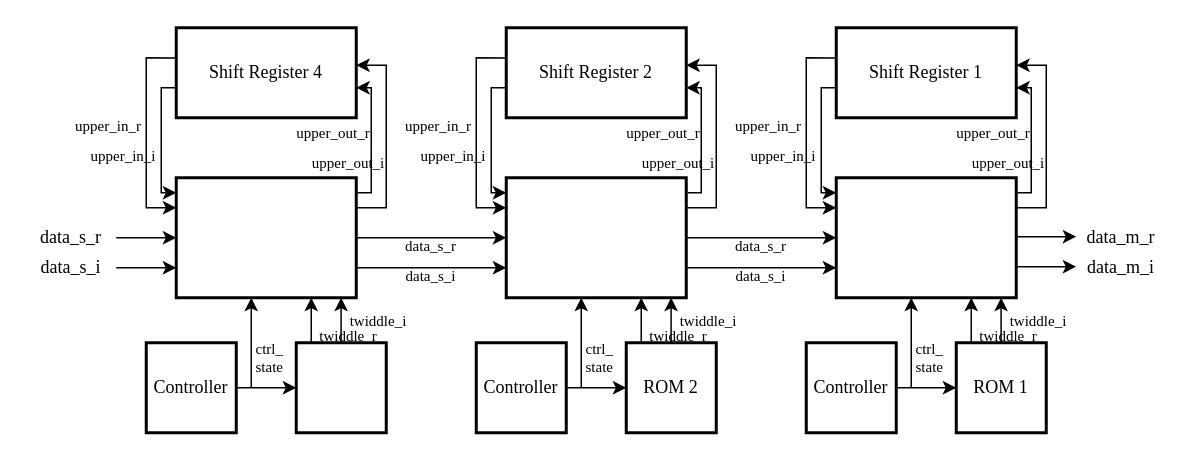
Image size: 1191x459. Some labels were removed from this diagram. Here are the shapes that lost their labels. From the top down, the centre of each, then its label:
At point 265,237: "RADIX-2 STAGE 3".
At point 595,237: "RADIX-2 STAGE 2".
At point 925,237: "RADIX-2 STAGE 1".
At point 340,387: "ROM 4".
